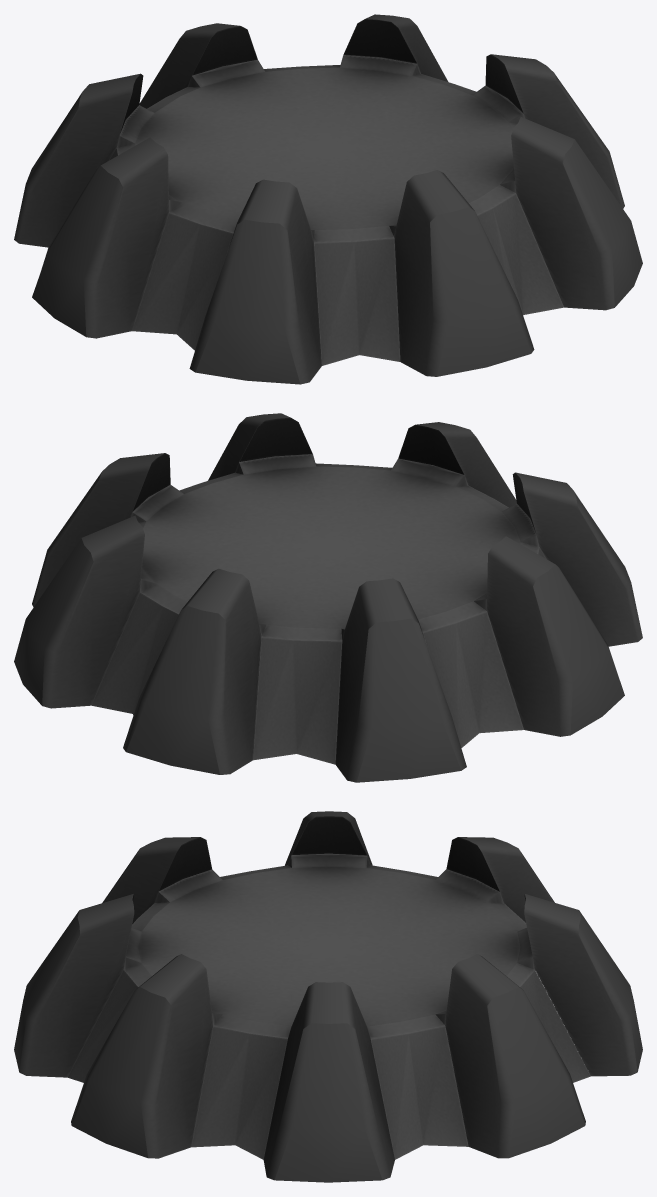
The model's file is Turret1_base.fbx.
3 renders of one model, top to bottom at view 1: azimuth 30°, elevation 25°; view 2: azimuth 150°, elevation 25°; view 3: azimuth 270°, elevation 25°, orthographic.
Parts seen in each view (by area): view 1: Turret_Base; view 2: Turret_Base; view 3: Turret_Base.
Boxes of the visible parts, left/top/right/bottom form: Turret_Base: left=14, top=14, right=642, bottom=384; Turret_Base: left=14, top=413, right=642, bottom=782; Turret_Base: left=14, top=811, right=642, bottom=1182.
Bounding box in the file's own units: 334 × 87.72 × 334.
1 material, 1 textured.
